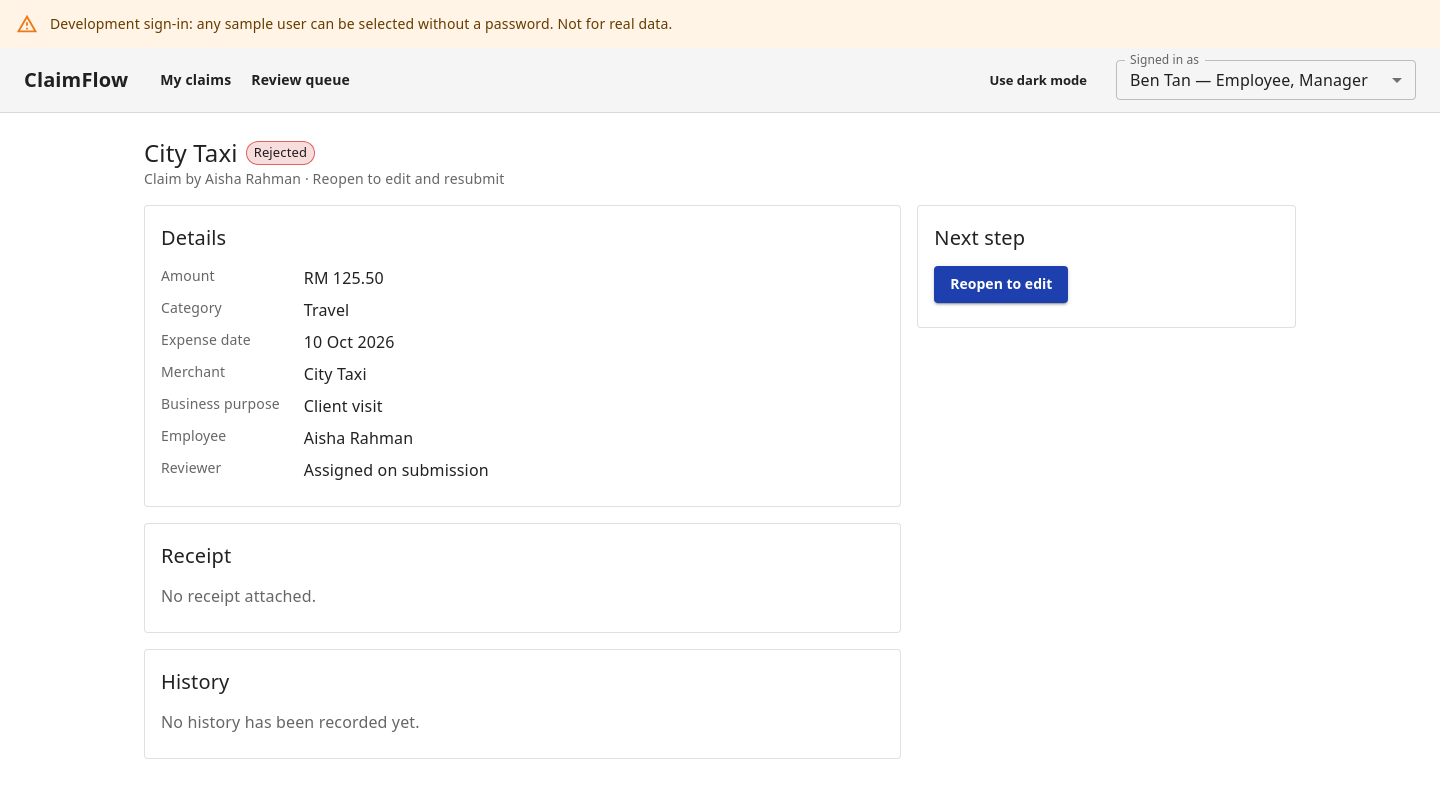
it: lifecycle actions › REOPEN sends the claim version with no comment, updates the page, and confirms
Click the button "Reopen to edit".
click(1001, 284)  # box [934,266,1068,302]
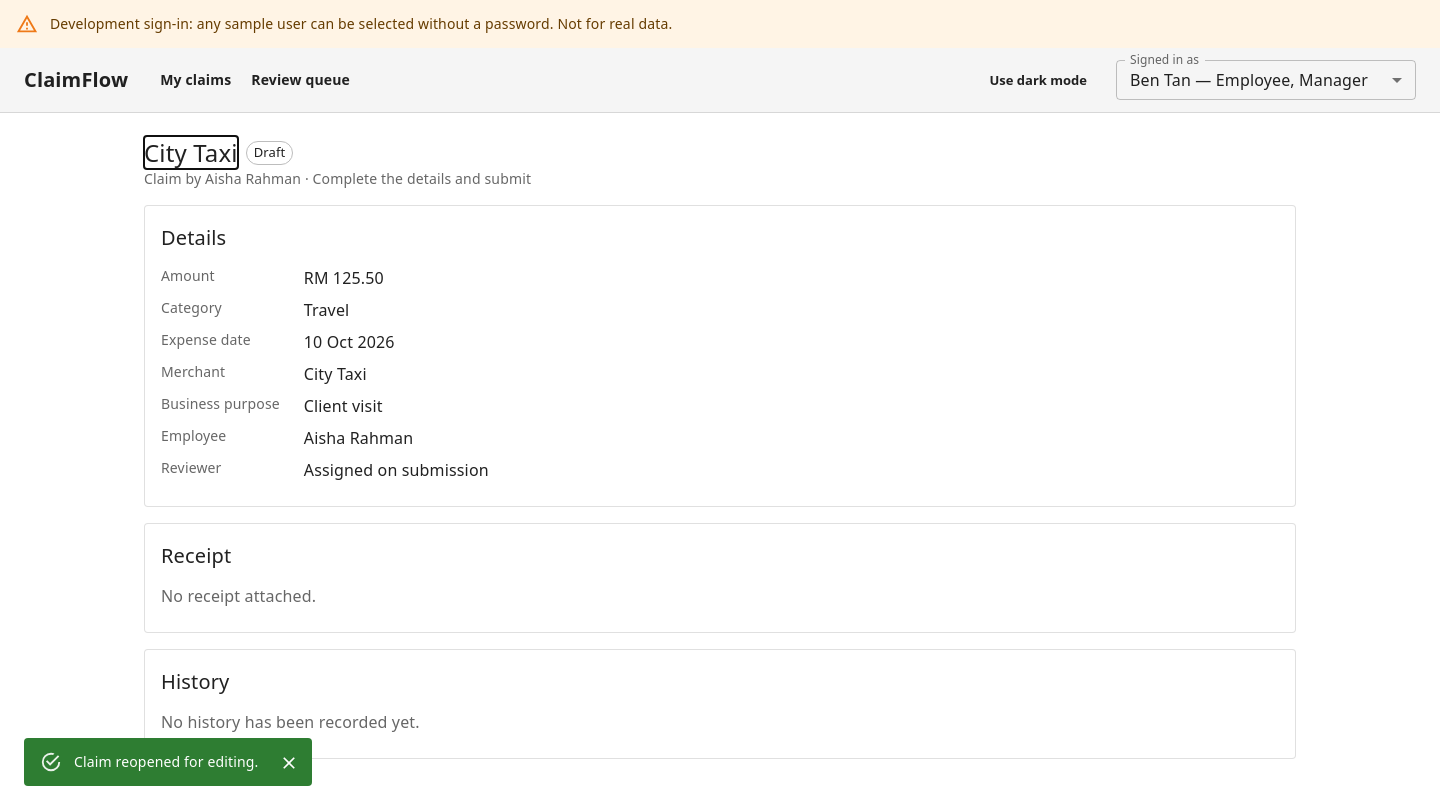
Result: the text "Claim reopened for editing." is shown at [74,752,258,771]
Result: the text "Reopen to edit" is gone
